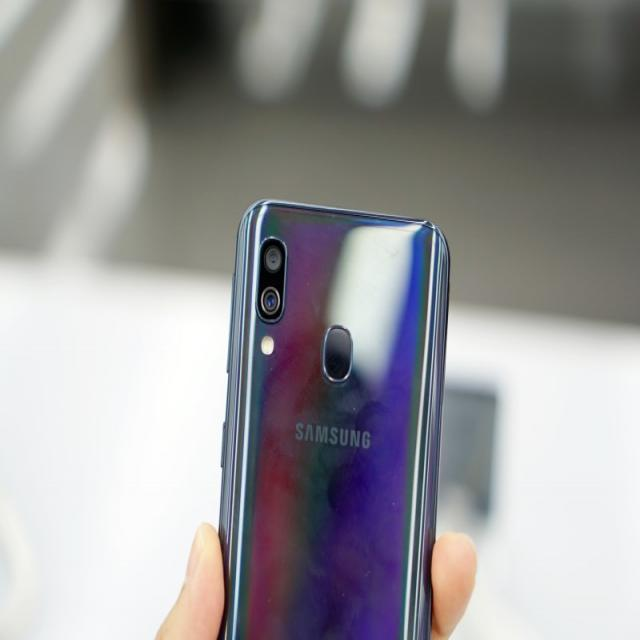lens: (254, 234, 288, 324)
phone: (214, 194, 456, 640)
